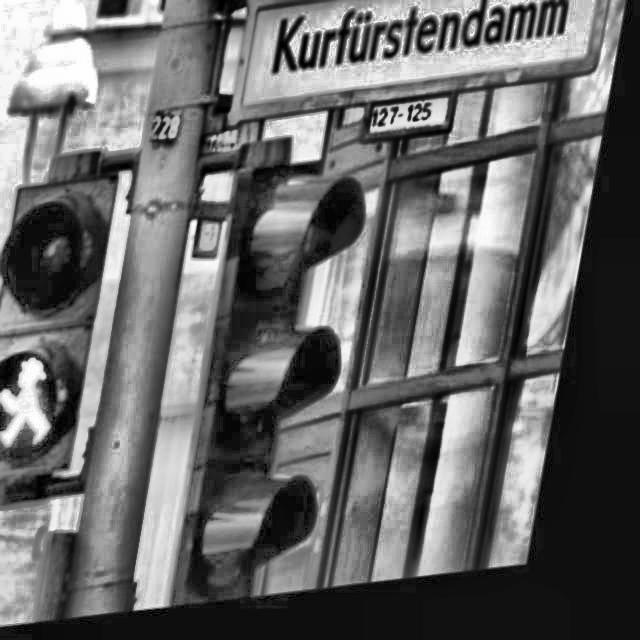semaforo pedestre: (0, 137, 173, 528)
